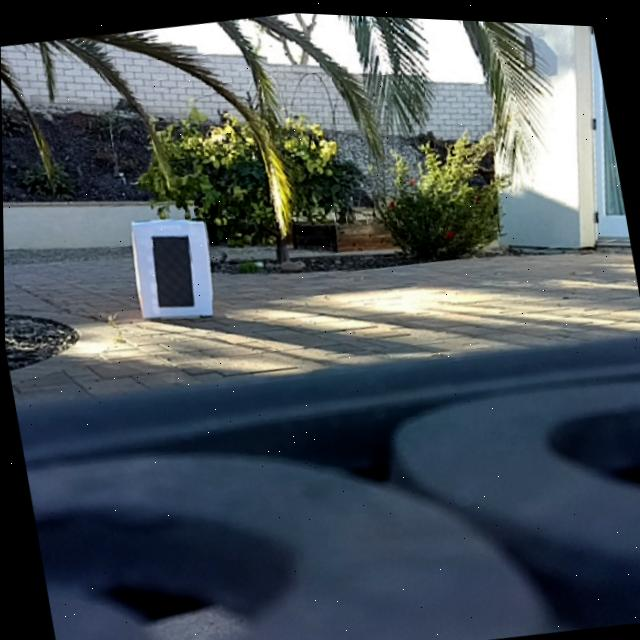led: (151, 228, 203, 316)
